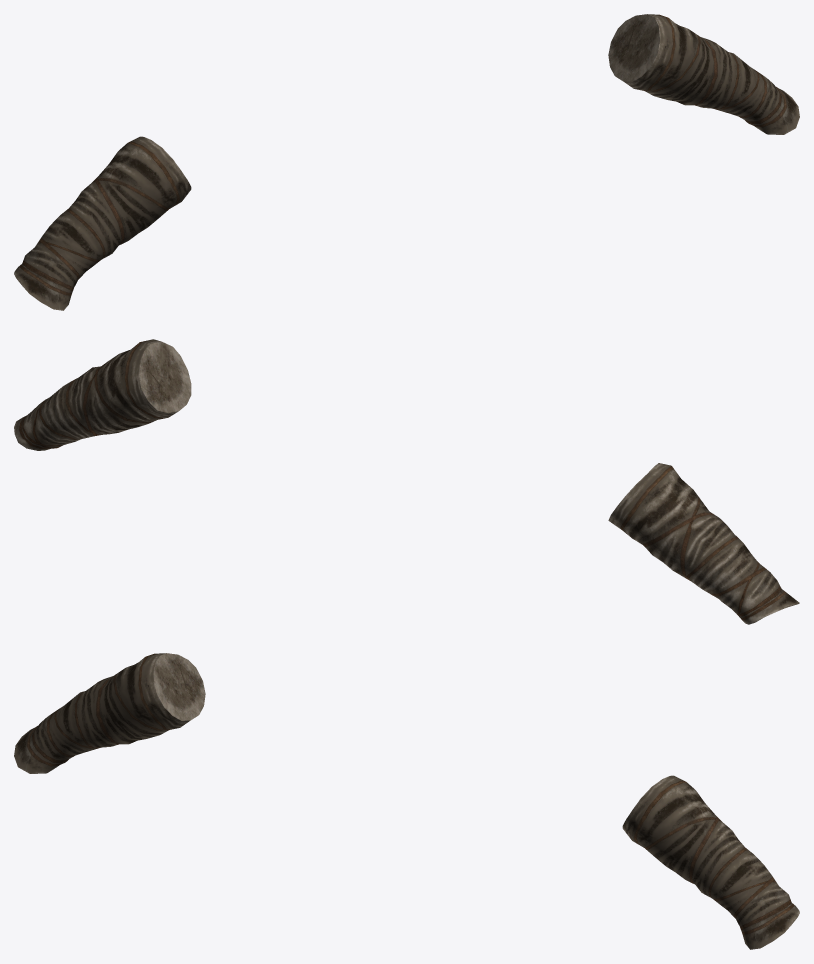
The model's file is dunland_caerdh_bracer_light_a.fbx.
The picture shows the model from 3 angles, top to bottom: view 1: azimuth 30°, elevation 25°; view 2: azimuth 150°, elevation 25°; view 3: azimuth 330°, elevation 25°; orthographic projection.
Visible parts, largest first — view 1: dunland_caerdh_bracer_light_a; view 2: dunland_caerdh_bracer_light_a; view 3: dunland_caerdh_bracer_light_a.
Part boxes in pixels (<box>): dunland_caerdh_bracer_light_a: <box>14,14,799,310</box>; dunland_caerdh_bracer_light_a: <box>14,339,799,624</box>; dunland_caerdh_bracer_light_a: <box>14,653,799,949</box>.
Size of the model in its own units: 1.43 by 0.1471 by 0.231.
1 material, 1 textured.
